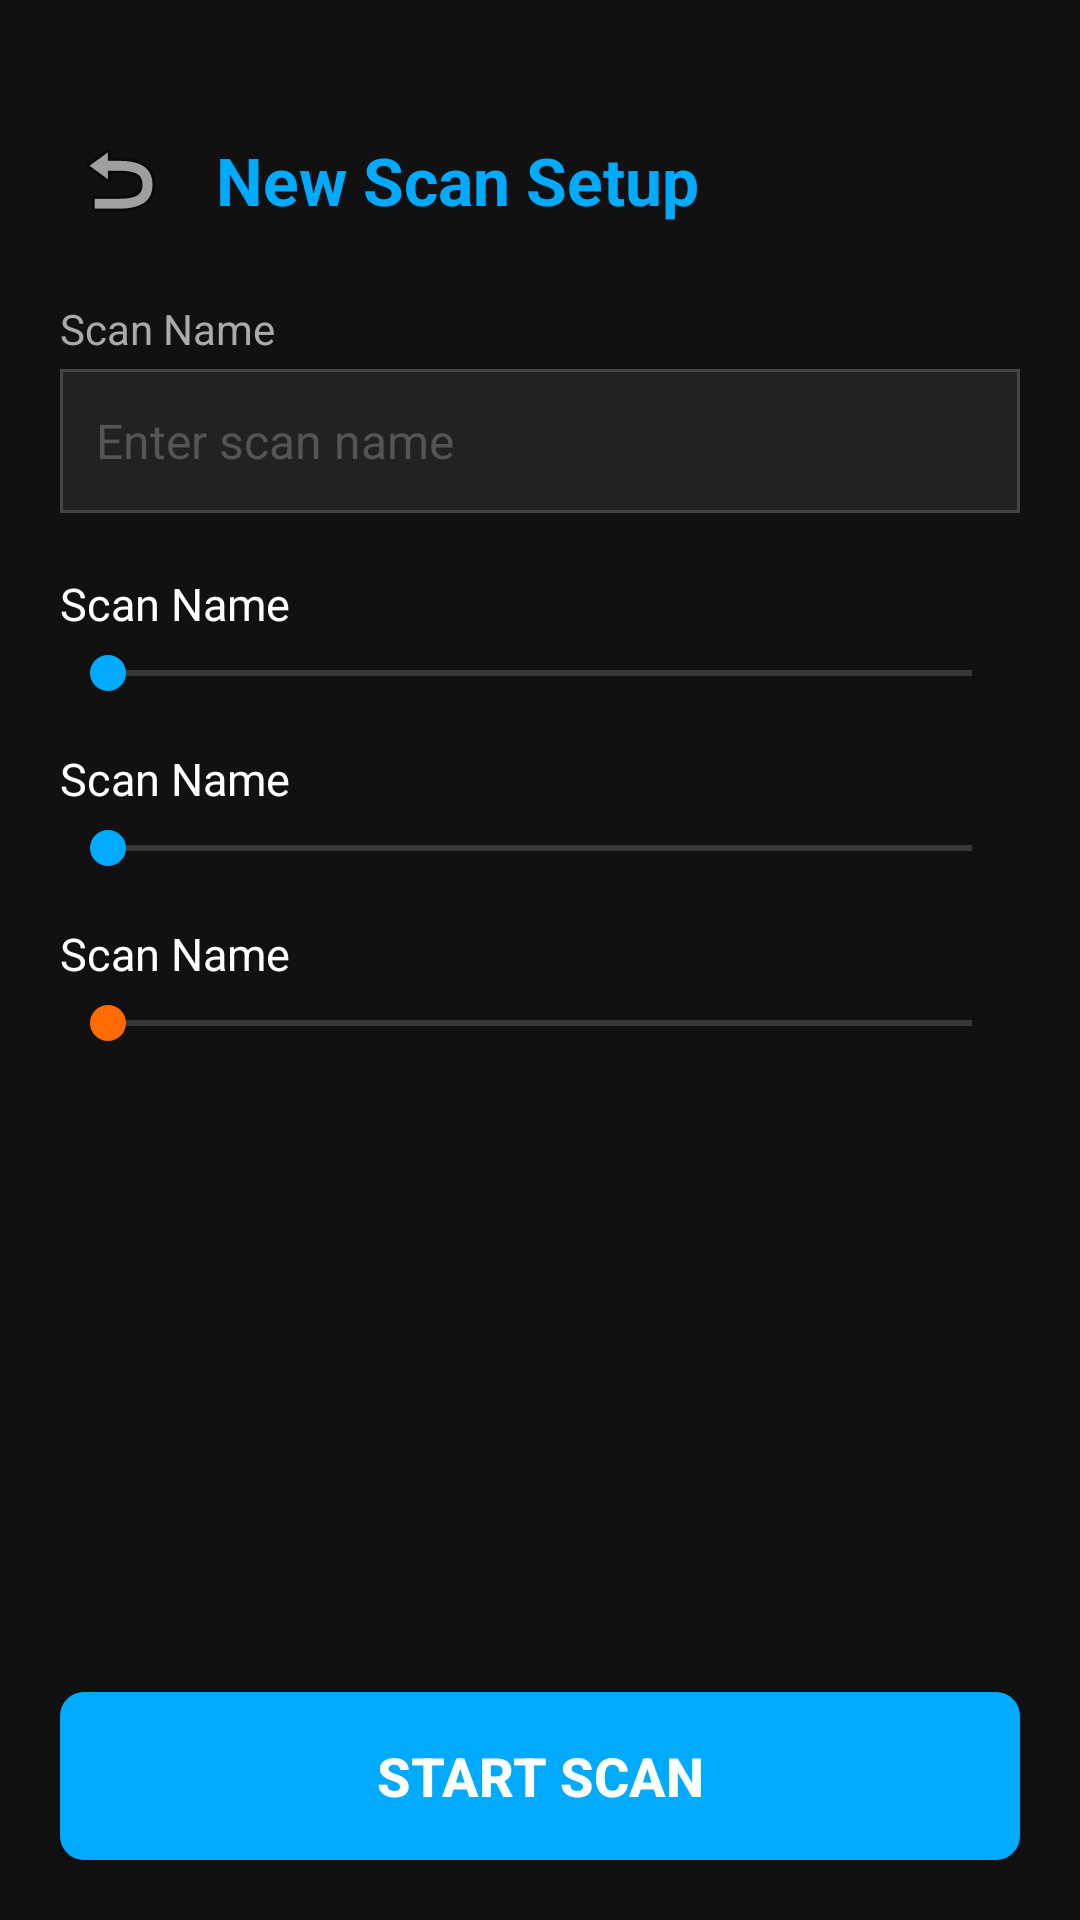

Screen size 1080px×1920px. Icon name, then its box in pixels as box(x1, y1, x2, y2):
Back: box(90, 152, 153, 209)
